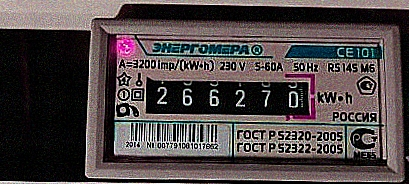0: (286, 88, 298, 110)
2: (154, 84, 169, 105), (233, 87, 245, 108)
6: (180, 87, 193, 107), (206, 87, 219, 107)
7: (258, 88, 271, 109)
screen: (135, 65, 323, 127)
